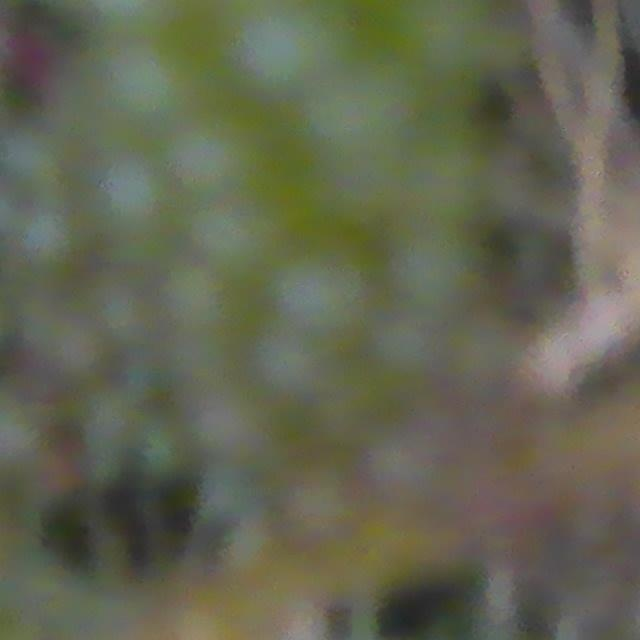SeaGrape: (196, 390, 301, 485), (270, 464, 373, 558), (106, 36, 203, 127), (170, 109, 266, 198), (272, 247, 367, 333), (377, 434, 470, 515), (27, 302, 109, 392), (191, 199, 274, 277), (94, 155, 172, 236), (15, 205, 82, 273)
